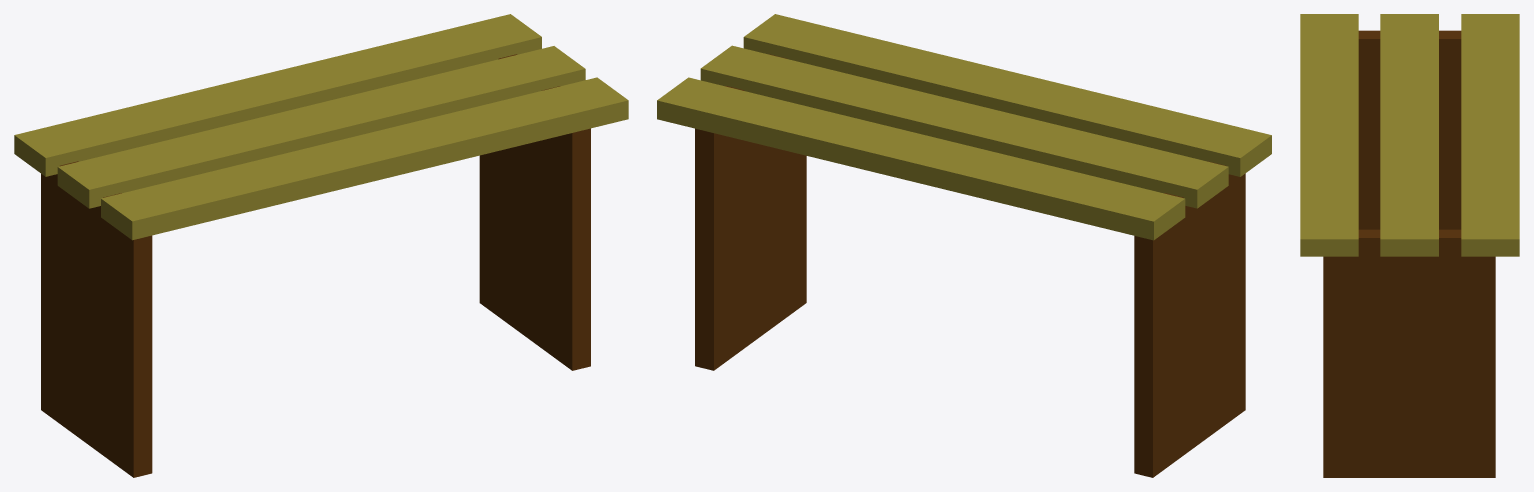
3 renders of one model, left to right at view 1: azimuth 30°, elevation 25°; view 2: azimuth 150°, elevation 25°; view 3: azimuth 270°, elevation 25°, orthographic. The views are drawn at different scales.
Visible parts, largest first — view 1: polySurface75, polySurface80, polySurface88, polySurface87, polySurface86, polySurface77, polySurface79, polySurface84, polySurface83, polySurface81, polySurface76, polySurface78 (+2 smaller); view 2: polySurface79, polySurface88, polySurface87, polySurface75, polySurface76, polySurface81, polySurface80, polySurface86, polySurface84, polySurface83, polySurface82, polySurface77 (+2 smaller); view 3: polySurface75, polySurface76, polySurface79, polySurface80, polySurface88, polySurface86, polySurface83, polySurface81, polySurface77, polySurface84, polySurface82, polySurface78 (+2 smaller).
Boxes of the visible parts, bbox=[...] form: polySurface75: bbox=[488, 86, 590, 370]; polySurface80: bbox=[68, 58, 585, 208]; polySurface88: bbox=[41, 161, 152, 368]; polySurface87: bbox=[41, 294, 152, 477]; polySurface86: bbox=[268, 100, 502, 199]; polySurface77: bbox=[136, 33, 541, 147]; polySurface79: bbox=[14, 14, 536, 157]; polySurface84: bbox=[101, 168, 299, 240]; polySurface83: bbox=[479, 77, 628, 153]; polySurface81: bbox=[57, 81, 409, 192]; polySurface76: bbox=[479, 54, 544, 308]; polySurface78: bbox=[20, 108, 183, 176]; polySurface79: bbox=[657, 81, 1162, 240]; polySurface88: bbox=[1134, 161, 1245, 370]; polySurface87: bbox=[1134, 292, 1245, 477]; polySurface75: bbox=[722, 54, 806, 364]; polySurface76: bbox=[695, 86, 762, 370]; polySurface81: bbox=[845, 102, 1209, 208]; polySurface80: bbox=[718, 45, 1228, 200]; polySurface86: bbox=[834, 50, 1115, 107]; polySurface84: bbox=[1108, 97, 1271, 176]; polySurface83: bbox=[743, 14, 924, 70]; polySurface82: bbox=[700, 55, 899, 115]; polySurface77: bbox=[684, 77, 1091, 175]; polySurface75: bbox=[1323, 229, 1494, 477]; polySurface76: bbox=[1378, 229, 1495, 477]; polySurface79: bbox=[1470, 14, 1519, 256]; polySurface80: bbox=[1380, 14, 1416, 256]; polySurface88: bbox=[1358, 30, 1461, 182]; polySurface86: bbox=[1300, 80, 1358, 195]; polySurface83: bbox=[1300, 171, 1358, 256]; polySurface81: bbox=[1410, 14, 1438, 173]; polySurface77: bbox=[1461, 56, 1492, 256]; polySurface84: bbox=[1300, 14, 1358, 84]; polySurface82: bbox=[1406, 156, 1438, 256]; polySurface78: bbox=[1461, 14, 1502, 84].
Size of the model in its own units: 114 by 58.9 by 46.84.
